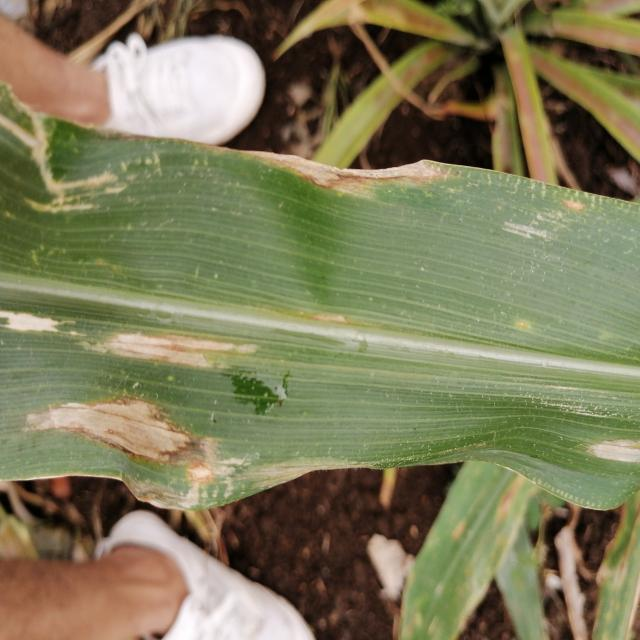Corn_Leaf_Blight: (0, 103, 640, 527)
